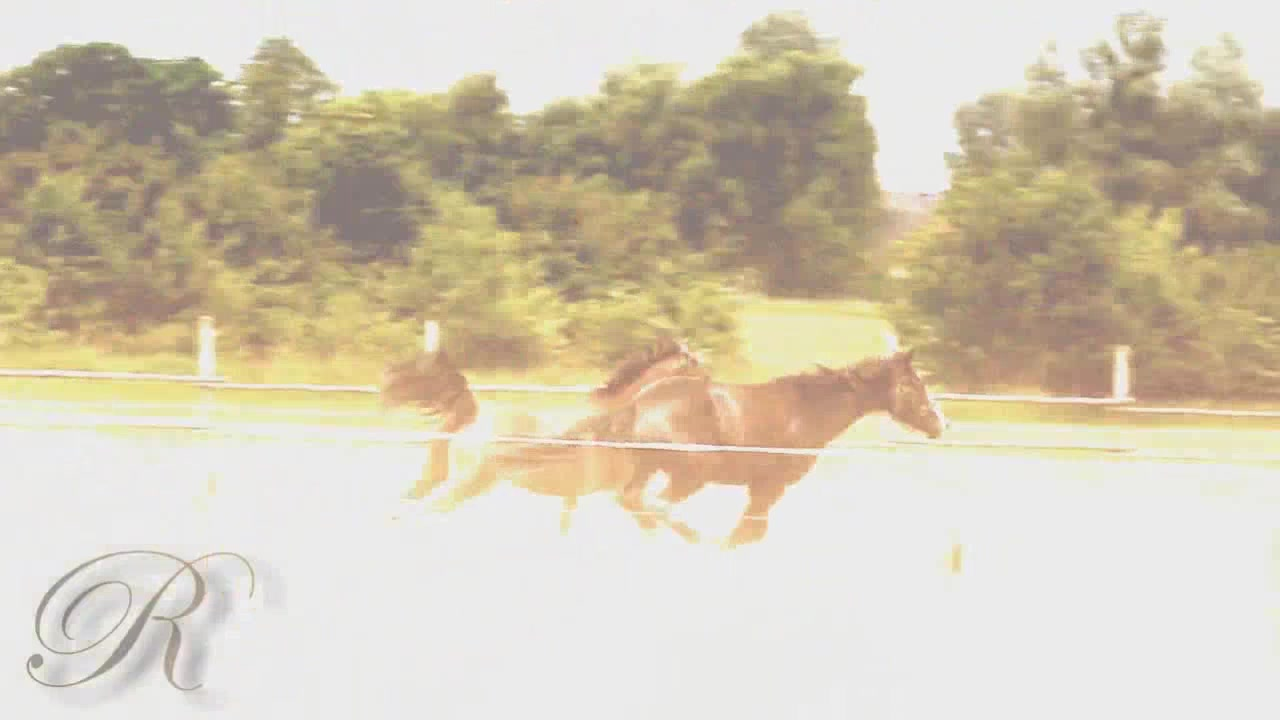horse: (503, 342, 954, 557), (436, 347, 717, 534)
